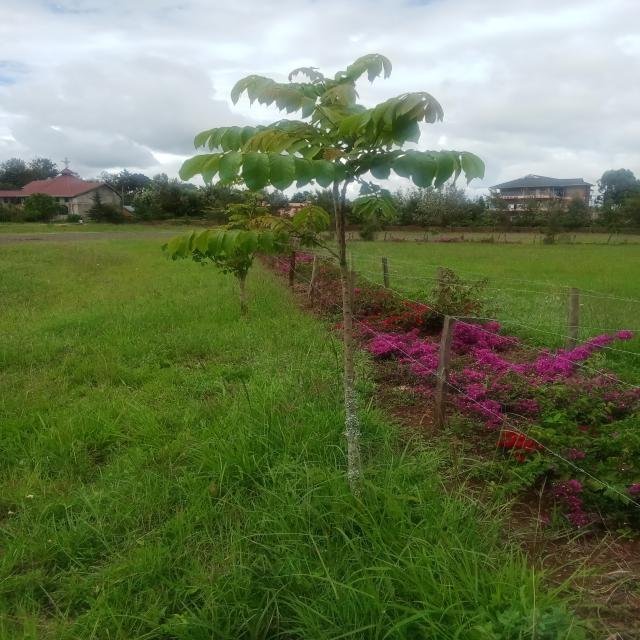Polyscias Kikuyensis: (175, 49, 493, 488)
